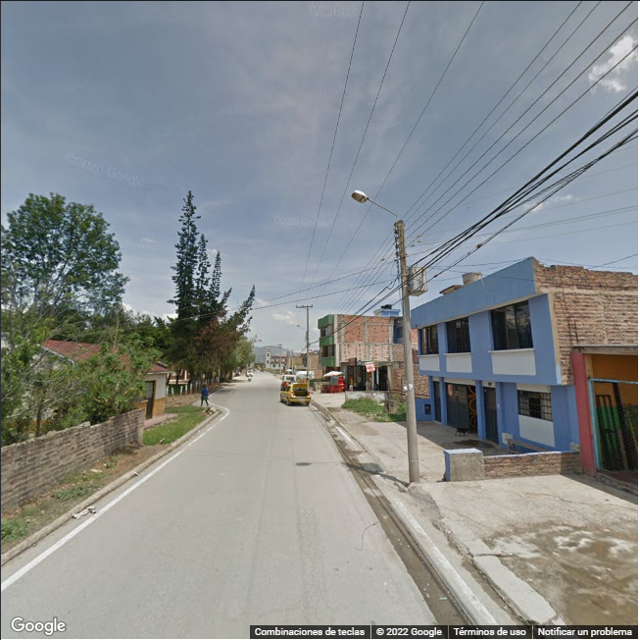D00: (360, 516, 382, 553)
D20: (293, 498, 339, 625)
